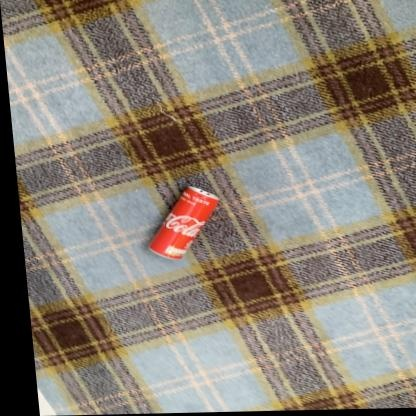trash: (149, 186, 218, 258)
